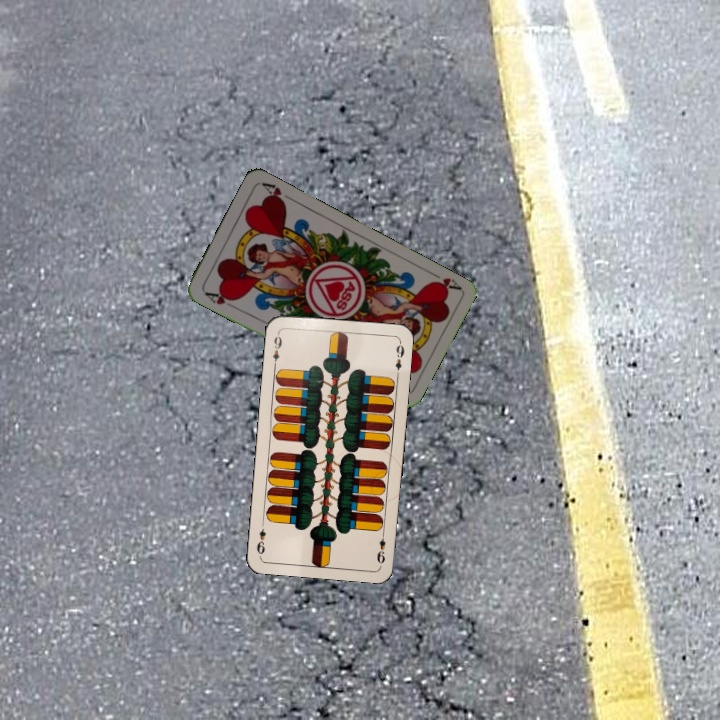E9: (269, 329, 285, 369), (373, 527, 388, 566)
HA: (425, 267, 463, 295), (200, 287, 239, 311)
